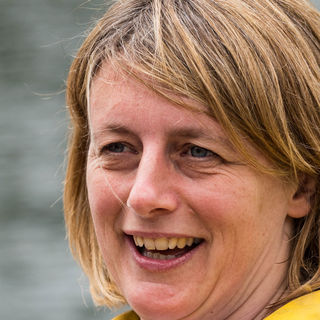eye: (171, 139, 225, 167), (94, 138, 143, 166)
